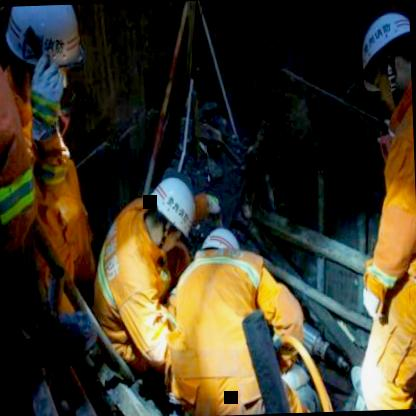helmet: (351, 0, 413, 134), (5, 5, 80, 104), (139, 168, 200, 264), (194, 222, 244, 270)
